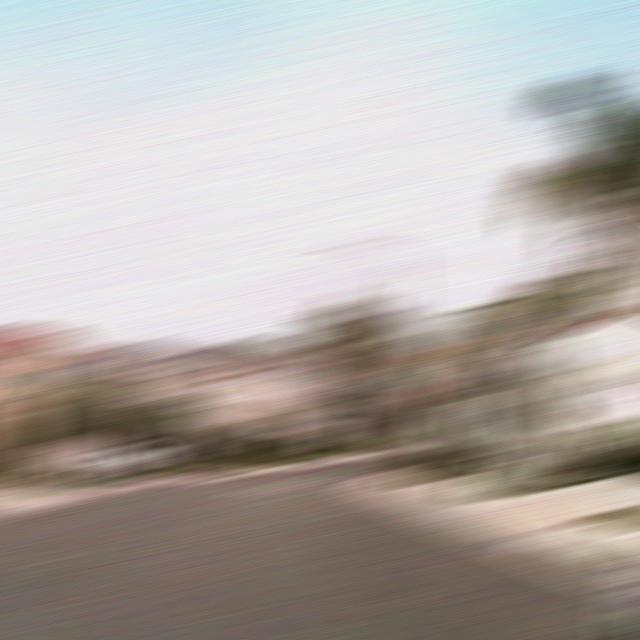stop: (385, 390, 425, 410)
